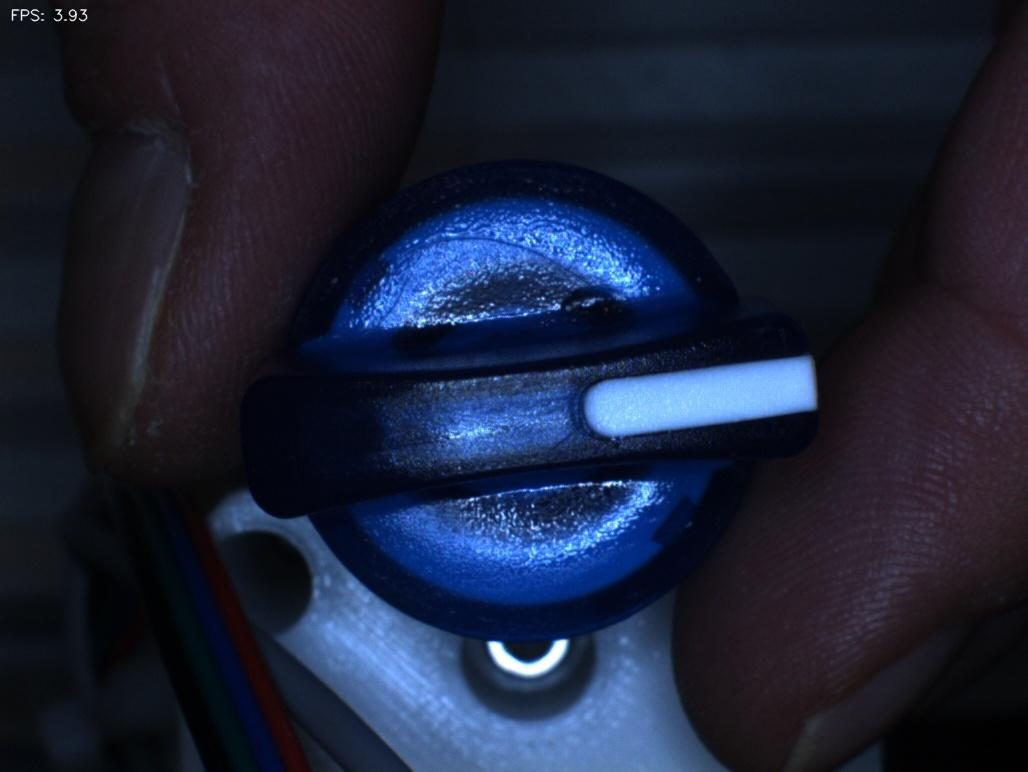Choc: (547, 253, 645, 344)
